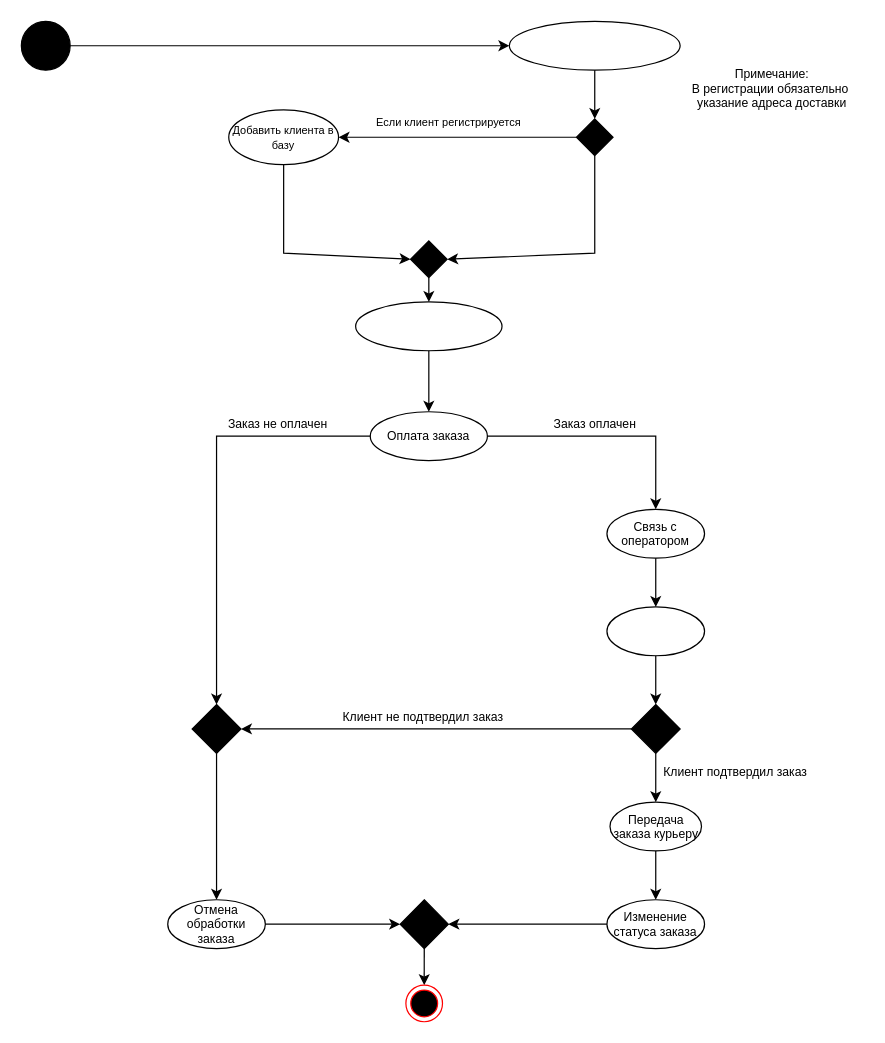
The diagram is 885 pixels wide and 1043 high, and some of its shapes have lost their labels. The box of each missing label's shape, as (x1, y1, x2, y2) in pixels:
Ожидание подтверждения: (606, 606, 705, 656)
Проверка регистрации клиента: (508, 20, 680, 70)
Рассчитать стоимость заказа: (354, 301, 502, 351)
